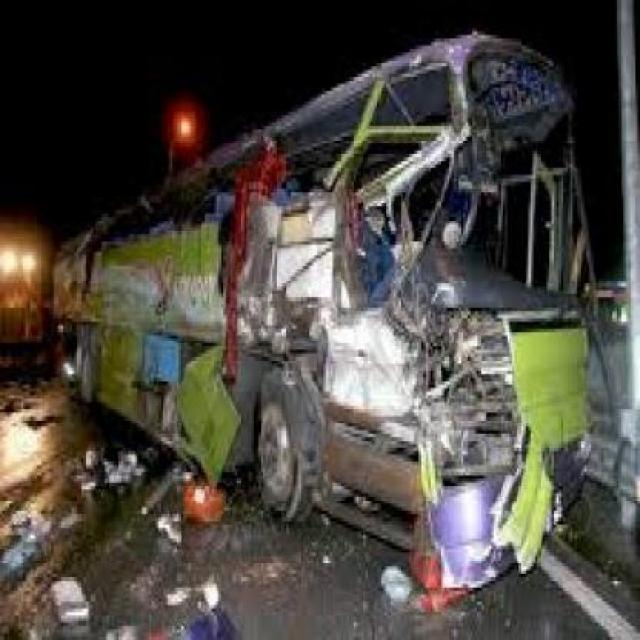accident: (39, 38, 616, 596)
